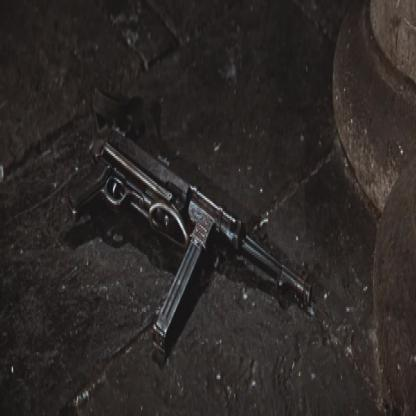Gun: (61, 117, 316, 364)
